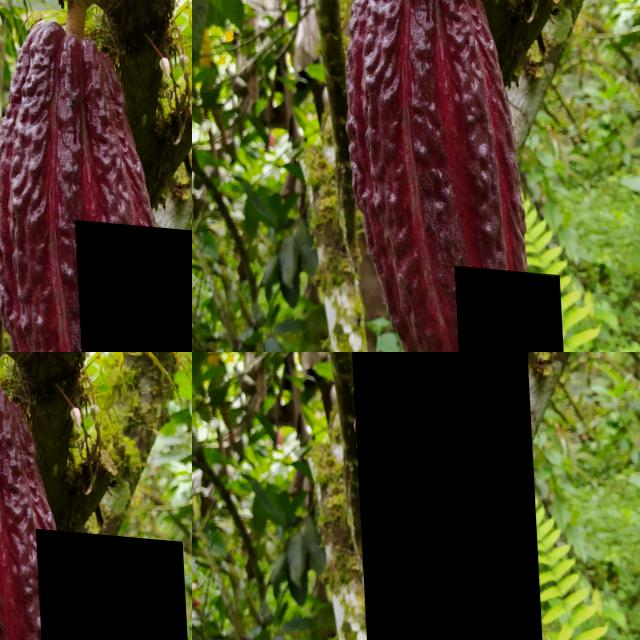Fitoftora: (380, 0, 531, 295)
Monilia: (33, 522, 192, 640), (449, 259, 563, 352)
Sana: (342, 352, 541, 640), (71, 214, 192, 352)
